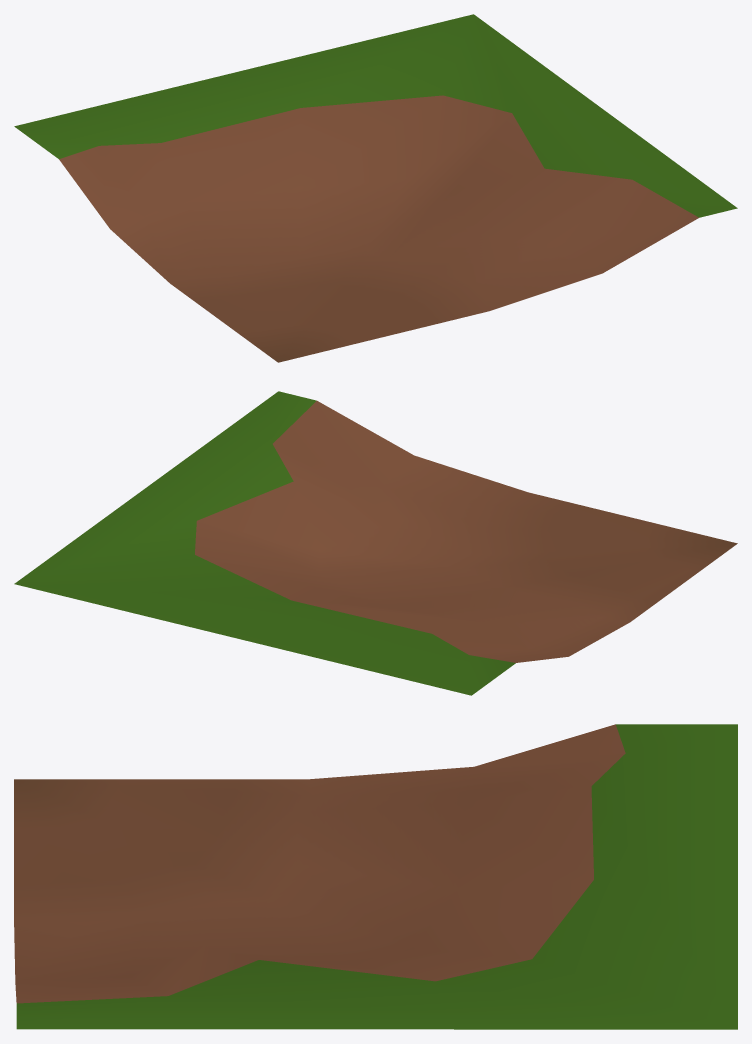
File: GroundHole1_4.fbx
3 views of the same model, one above another, from view 1: azimuth 30°, elevation 25°; view 2: azimuth 150°, elevation 25°; view 3: azimuth 270°, elevation 25° (orthographic). The views are drawn at different scales.
Visible parts, largest first — view 1: GroundHole1_4; view 2: GroundHole1_4; view 3: GroundHole1_4.
Part boxes in pixels (<box>): GroundHole1_4: <box>14,14,737,362</box>; GroundHole1_4: <box>14,391,737,695</box>; GroundHole1_4: <box>14,724,737,1029</box>.
Size of the model in its own units: 402 by 34.37 by 401.
